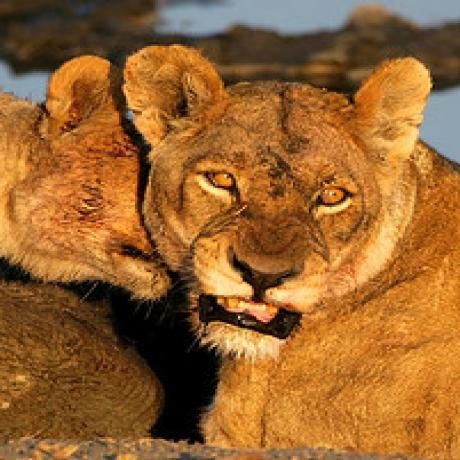Lion: (121, 40, 460, 460), (0, 48, 140, 288)
